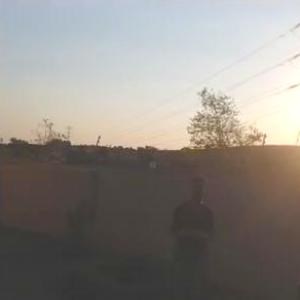follow: (161, 169, 218, 299)
